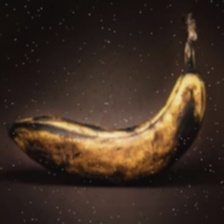banana: (10, 9, 203, 203)
